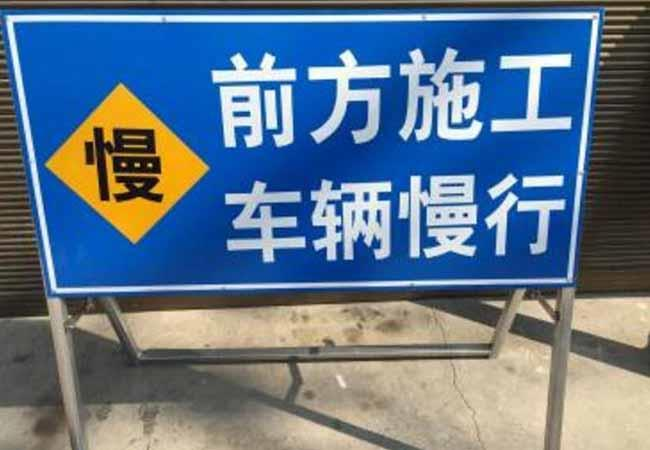sign: (8, 16, 581, 286)
